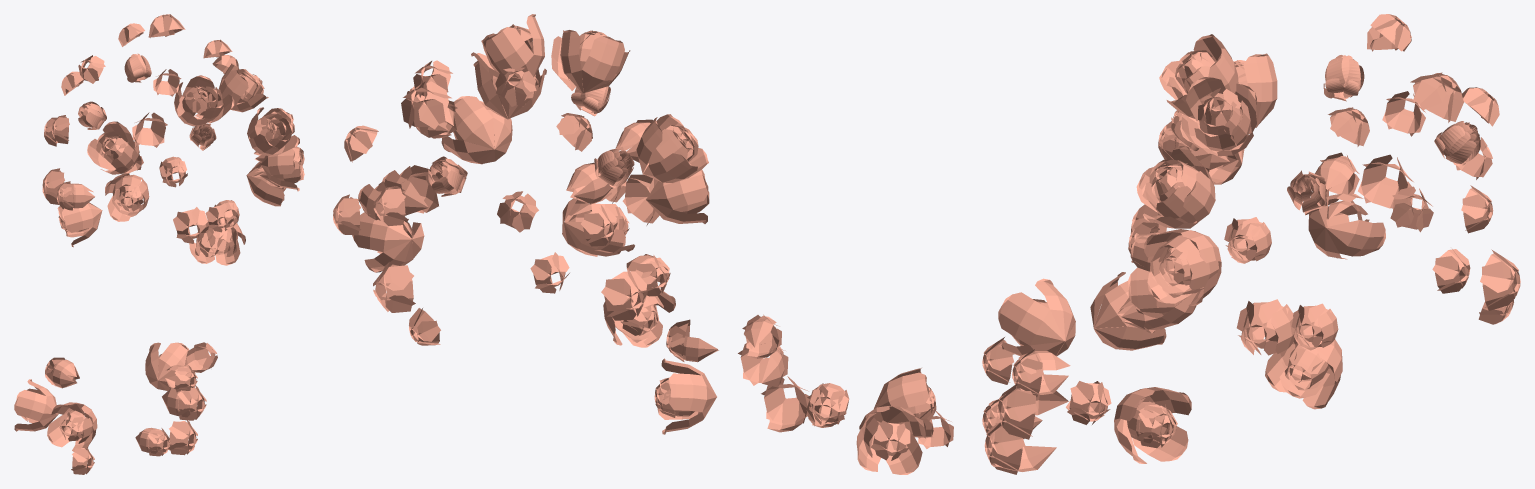
Rendered from 02_openskp_material_69.004.obj.
3 renders of one model, left to right at view 1: azimuth 30°, elevation 25°; view 2: azimuth 150°, elevation 25°; view 3: azimuth 270°, elevation 25°, orthographic. The views are drawn at different scales.
Parts seen in each view (by area): view 1: 02_openskp_material_69.004; view 2: 02_openskp_material_69.004; view 3: 02_openskp_material_69.004.
Boxes of the visible parts, x1=… form: 02_openskp_material_69.004: x1=14, y1=14, x2=304, y2=474; 02_openskp_material_69.004: x1=333, y1=14, x2=953, y2=474; 02_openskp_material_69.004: x1=982, y1=14, x2=1520, y2=474.
Bounding box in the file's own units: 21 × 19.17 × 18.37.
